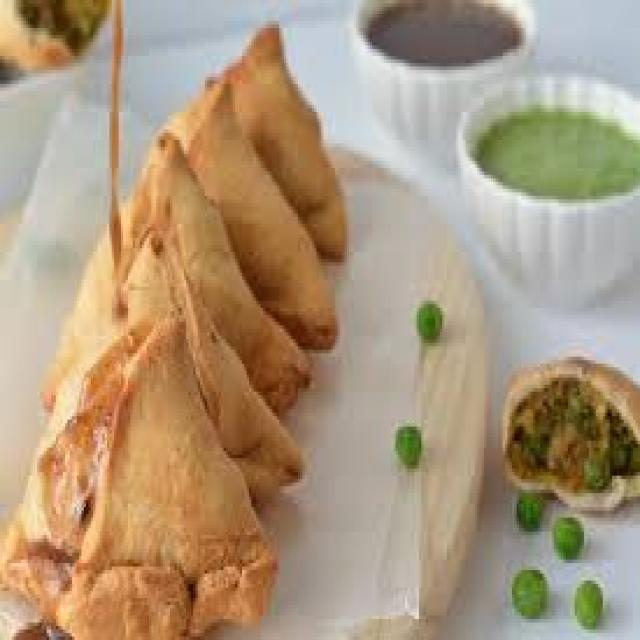SAMOSA: (0, 311, 274, 637), (152, 77, 341, 353), (119, 228, 311, 489), (36, 136, 150, 410), (229, 17, 347, 263)
